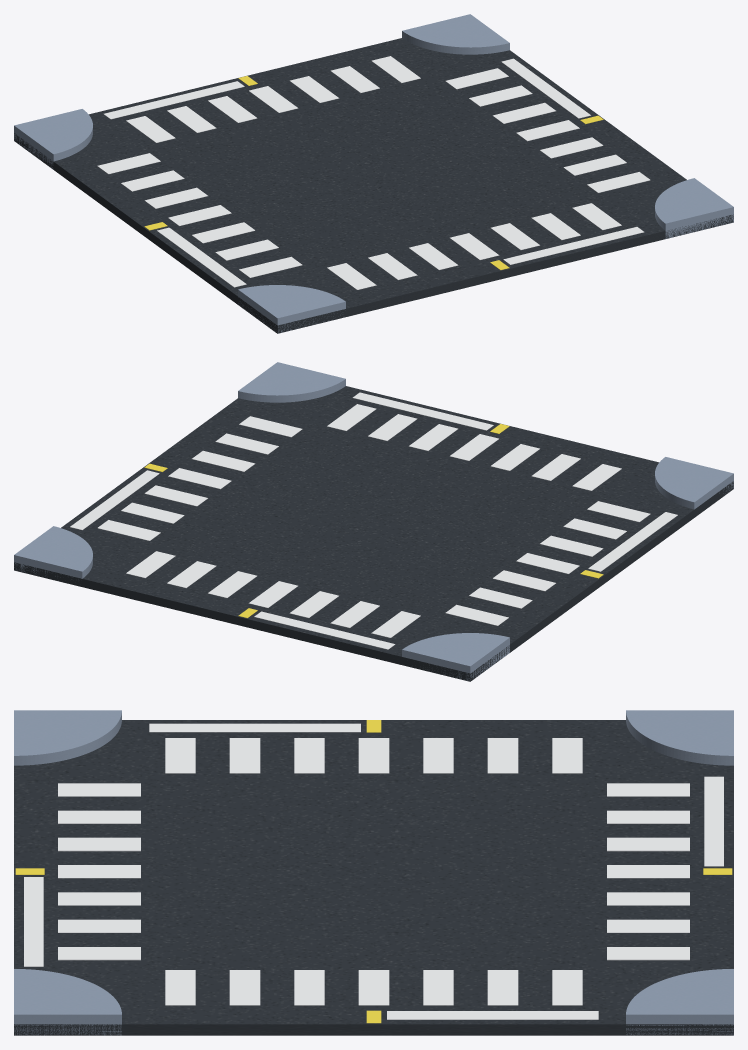
The model's file is road_crossroad_asphalt.glb.
3 renders of one model, top to bottom at view 1: azimuth 30°, elevation 25°; view 2: azimuth 150°, elevation 25°; view 3: azimuth 270°, elevation 25°, orthographic. The views are drawn at different scales.
Parts seen in each view (by area): view 1: road_crossroad_asphalt; view 2: road_crossroad_asphalt; view 3: road_crossroad_asphalt.
Boxes of the visible parts, left/top/right/bottom form: road_crossroad_asphalt: left=14, top=14, right=733, bottom=333; road_crossroad_asphalt: left=14, top=362, right=733, bottom=681; road_crossroad_asphalt: left=14, top=710, right=733, bottom=1035.
Bounding box in the file's own units: 8 × 0.26 × 8.
4 materials, 2 textured.
